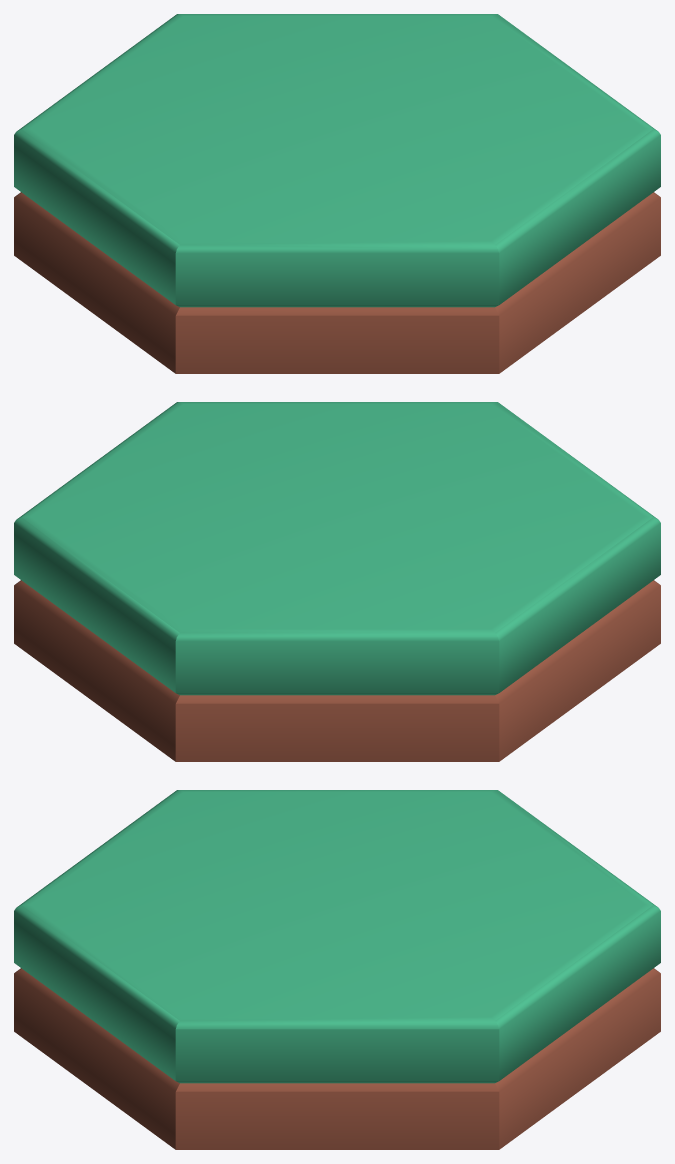
The model's file is tile_base.glb.
3 renders of one model, top to bottom at view 1: azimuth 30°, elevation 25°; view 2: azimuth 150°, elevation 25°; view 3: azimuth 270°, elevation 25°, orthographic.
Parts seen in each view (by area): view 1: hex_forest_detail; view 2: hex_forest_detail; view 3: hex_forest_detail.
Boxes of the visible parts, x1=… form: hex_forest_detail: x1=14, y1=14, x2=660, y2=373; hex_forest_detail: x1=14, y1=402, x2=660, y2=761; hex_forest_detail: x1=14, y1=790, x2=660, y2=1149.
Bounding box in the file's own units: 2 × 0.5 × 2.31.
